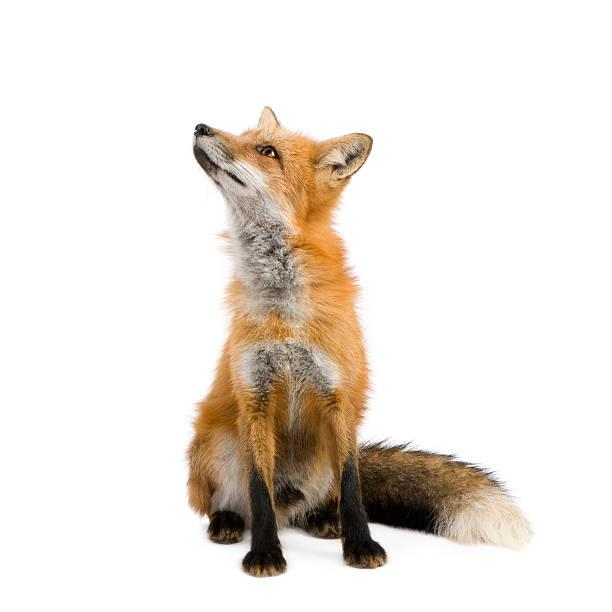fox: (169, 103, 531, 577)
